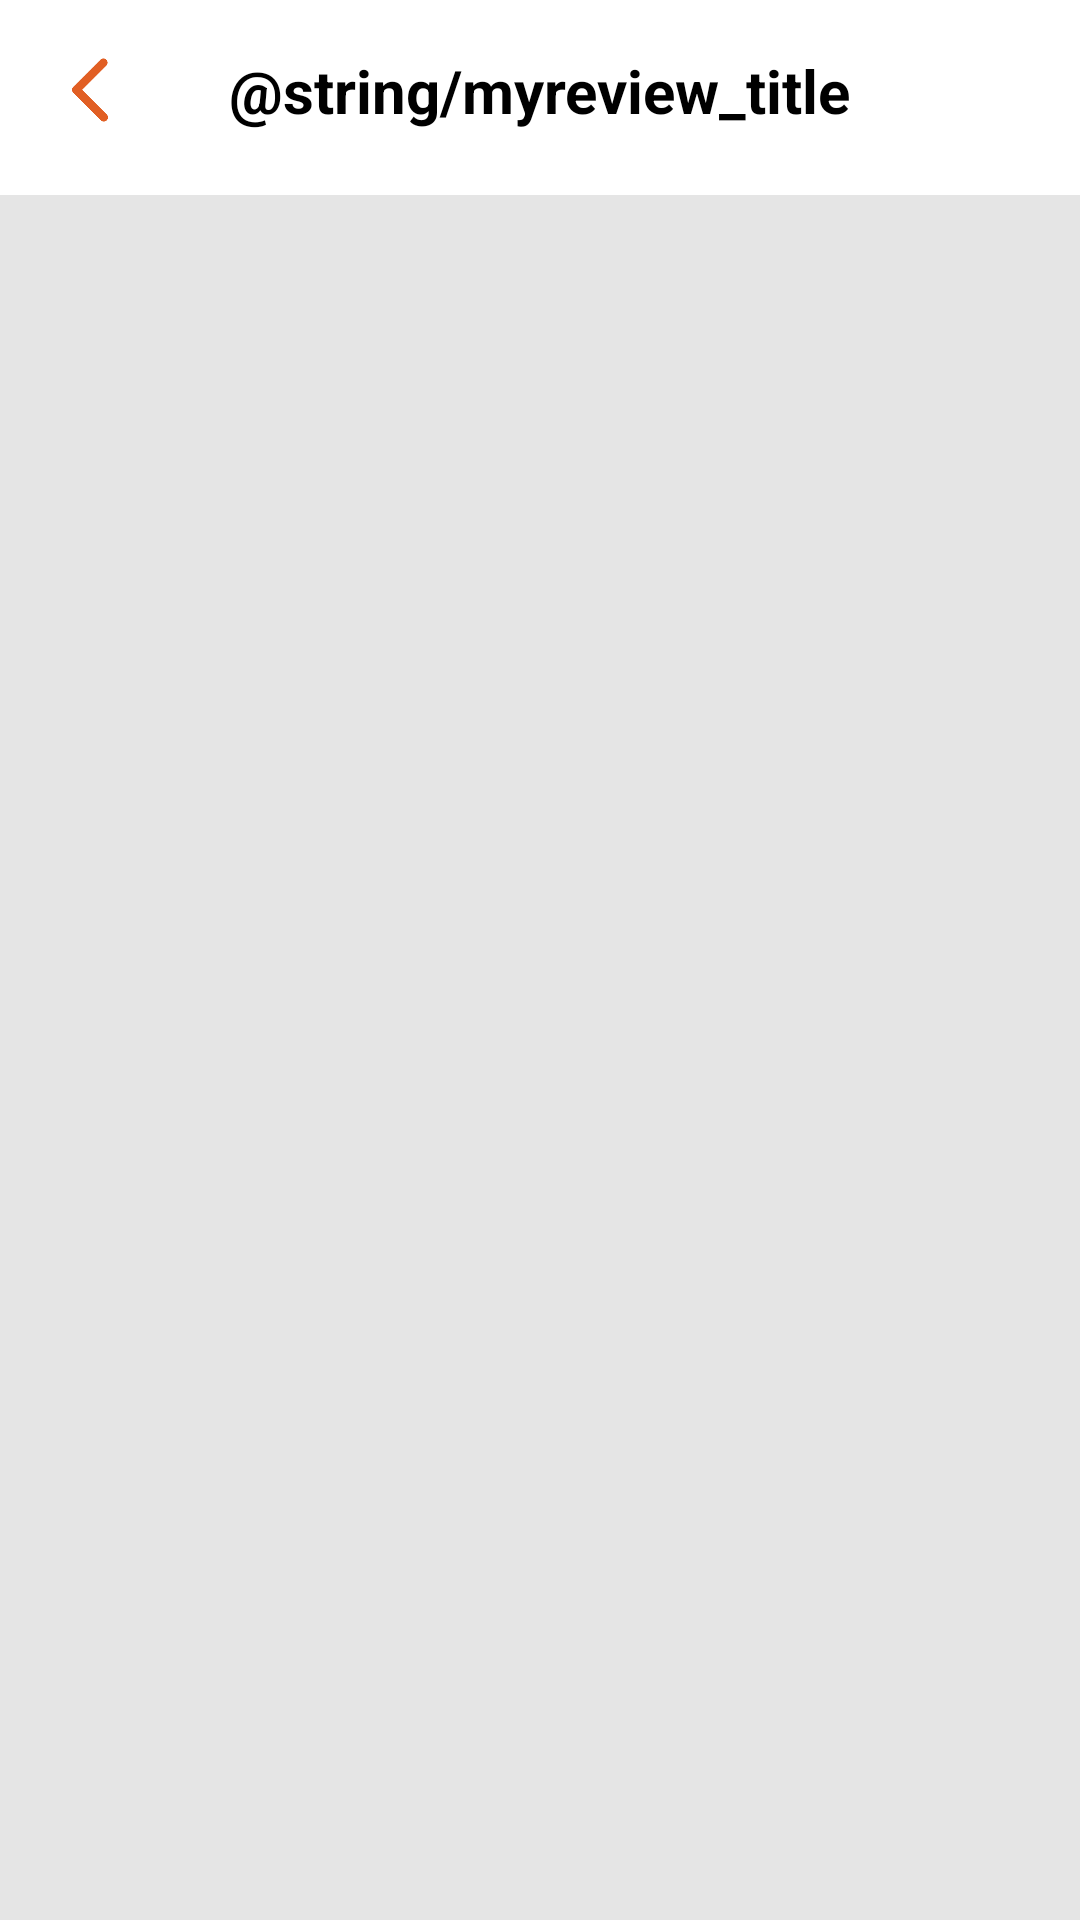

Screen size 1080px x 1920px. Icon name, then its center in pixels as point (x, y):
back: point (90, 90)
